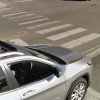crosswalk: (2, 11, 100, 57)
